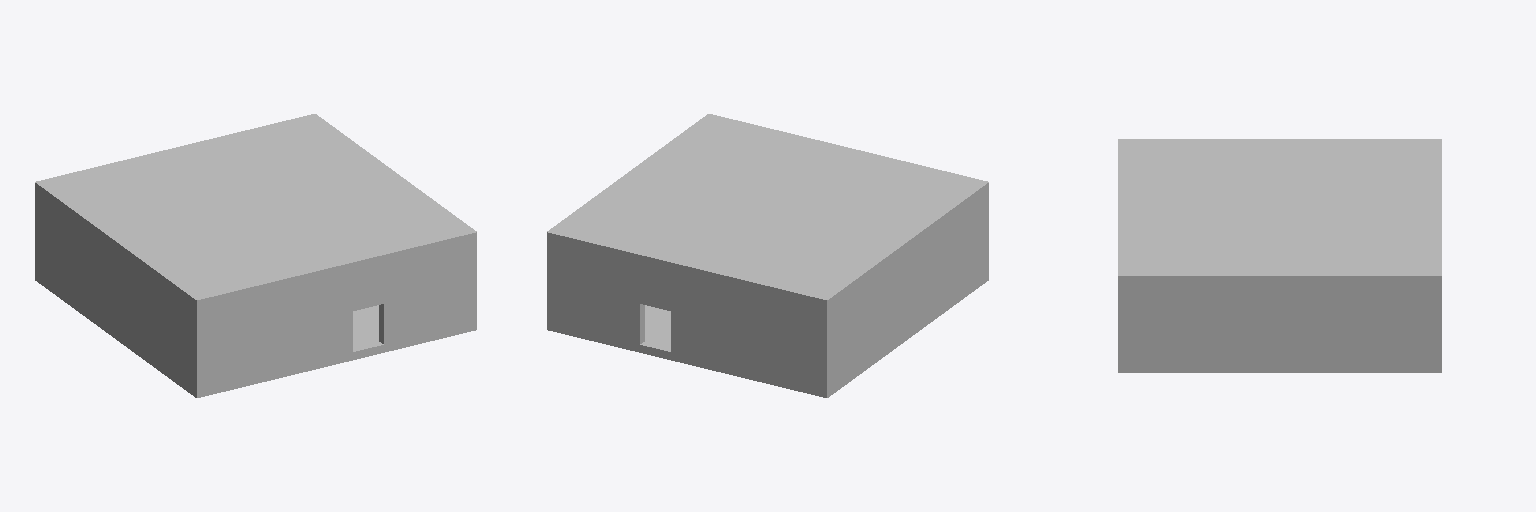
The model's file is gukri_bang.obj.
3 views of the same model, side by side, from view 1: azimuth 30°, elevation 25°; view 2: azimuth 150°, elevation 25°; view 3: azimuth 270°, elevation 25° (orthographic).
Visible parts, largest first — view 1: Cube.014, Cube.008, Cube.006, Cube.009, Cube, Cube.001; view 2: Cube.014, Cube.003, Cube.006, Cube.002, Cube, Cube.004; view 3: Cube.014, Cube.015, Cube, Cube.002, Cube.009.
Part boxes in pixels (x1,y1,x2,y2): Cube.014: (35,114,476,308); Cube.008: (192,271,352,389); Cube.006: (39,194,191,386); Cube.009: (379,240,476,344); Cube: (35,272,476,397); Cube.001: (353,263,383,310); Cube.014: (547,114,988,308); Cube.003: (671,271,831,389); Cube.006: (832,194,984,386); Cube.002: (547,240,644,344); Cube: (547,272,988,397); Cube.004: (640,263,670,310); Cube.014: (1118,139,1441,283); Cube.015: (1127,284,1432,364); Cube: (1118,365,1441,372); Cube.002: (1433,284,1441,364); Cube.009: (1118,284,1126,364).
Size of the model in its own units: 36 by 12 by 36.